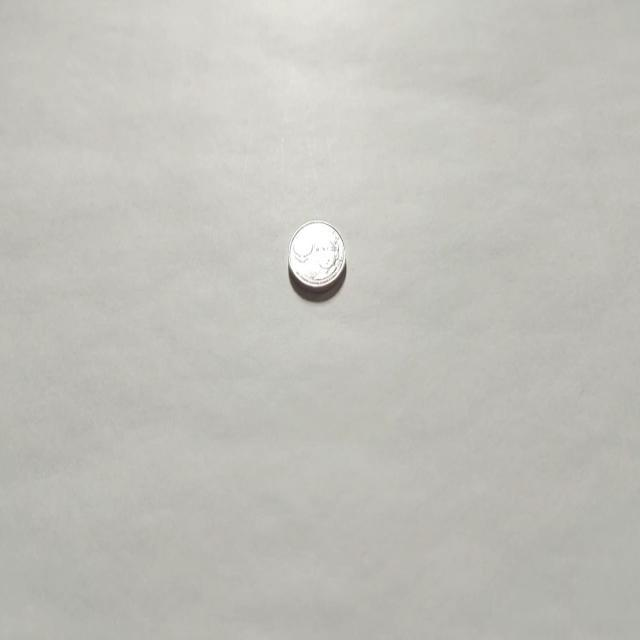dua ratus rupiah: (287, 218, 346, 294)
